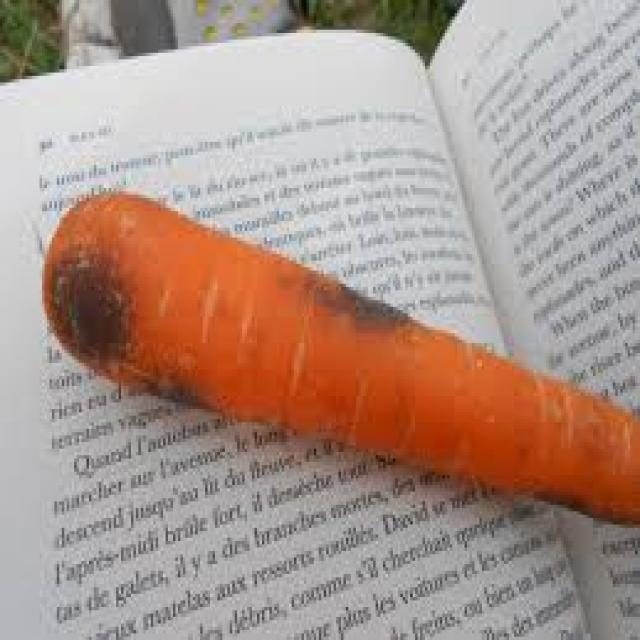Stale_Carrot: (29, 171, 463, 454)
